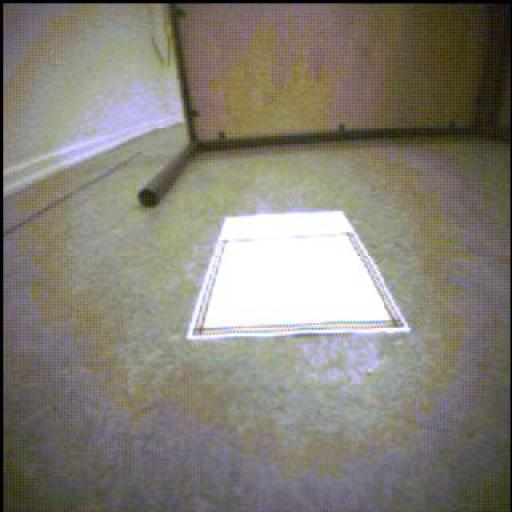Pad: (188, 212, 411, 340)
